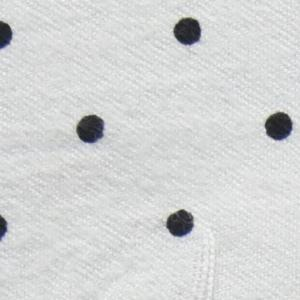Wrinkle: (189, 228, 228, 300)
